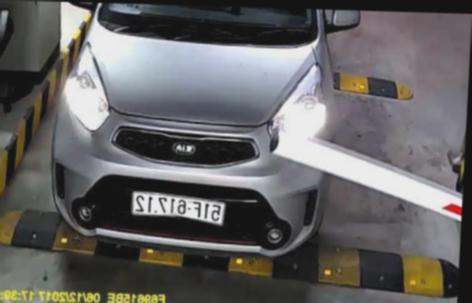License_Plate: (128, 186, 226, 232)
